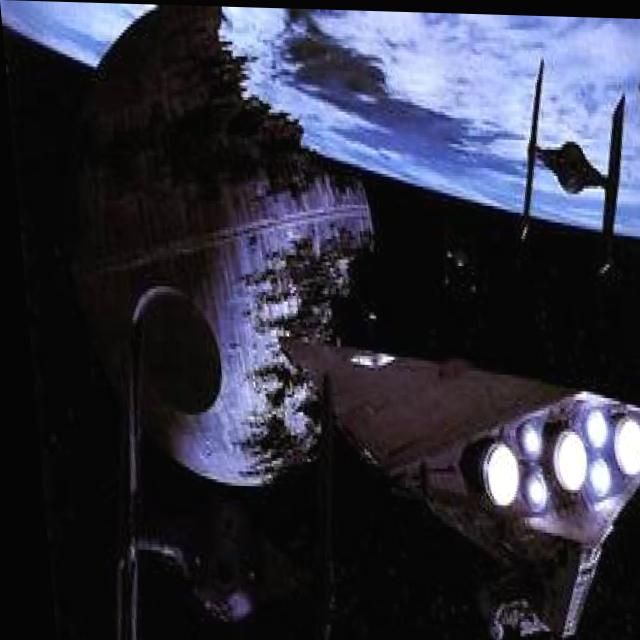deathStar: (70, 2, 391, 500)
